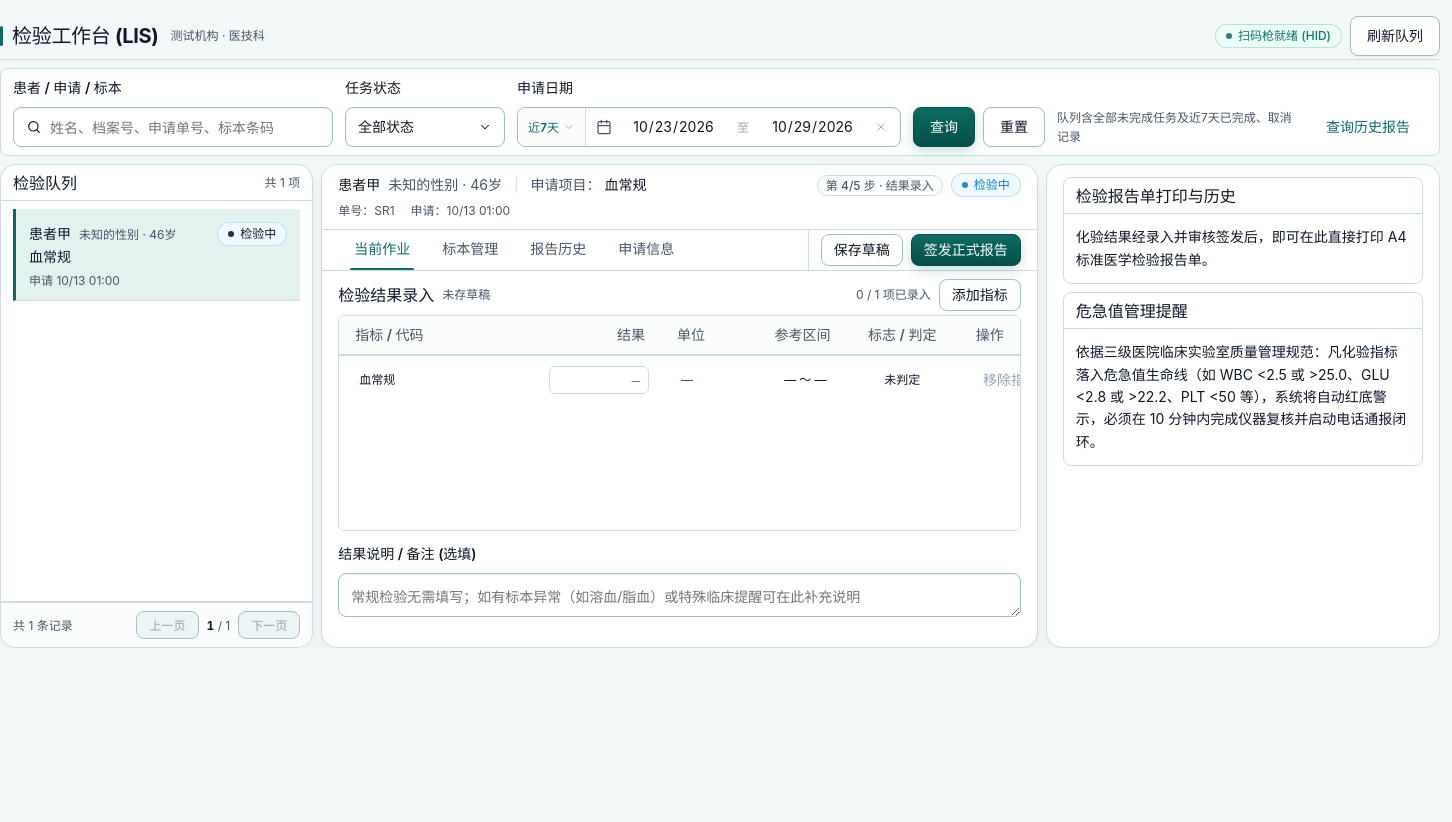
it: simple diagnostic business workbench › queries all pages with status and inclusive operator dates
Expected: the field named "指标1结果" is shown, [549,366,649,394]
Click the dropdown named "任务状态".
click(425, 127)  # box [345,107,505,147]
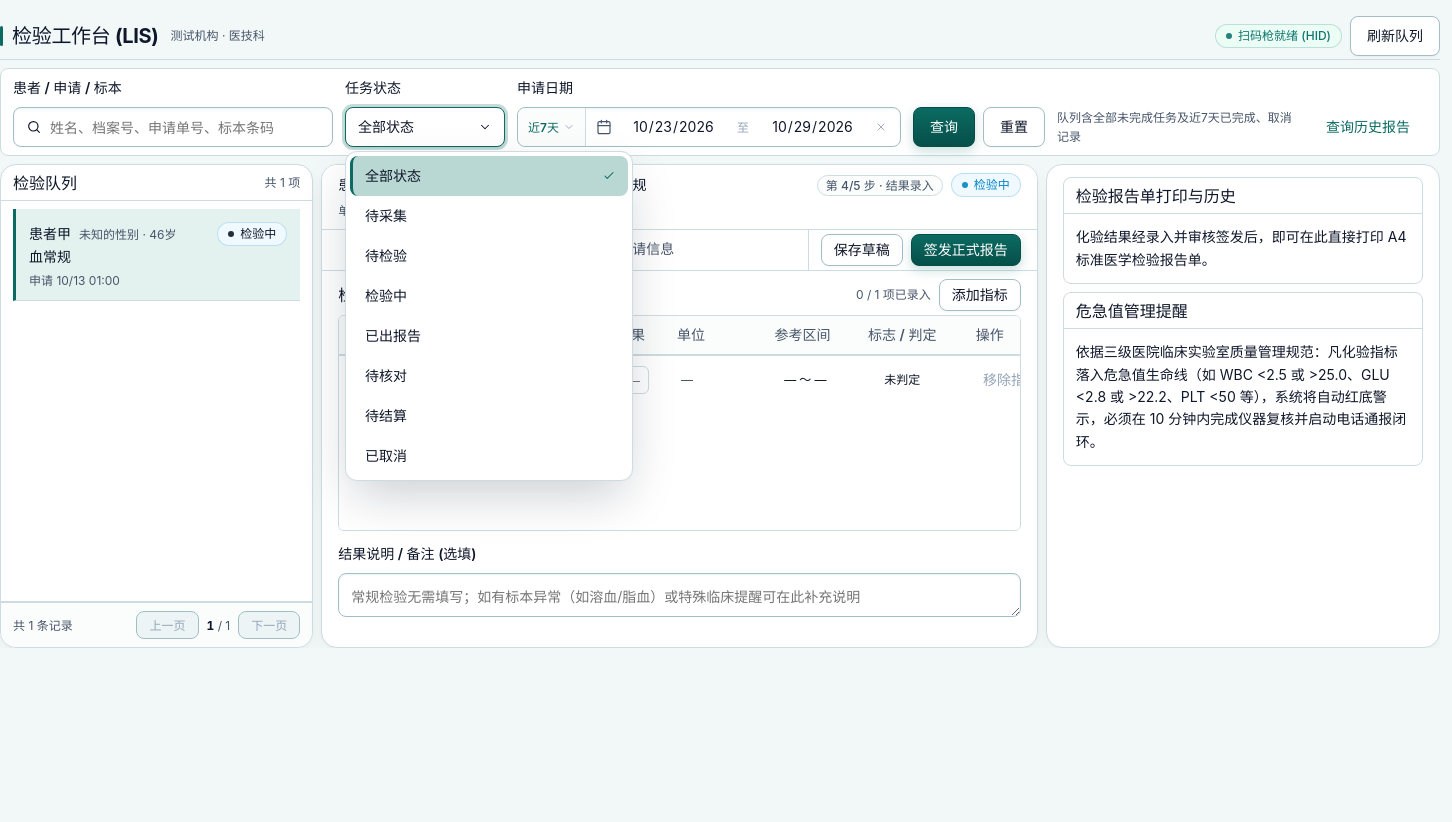
Click the option "检验中".
click(386, 296)  # box [350,276,628,316]
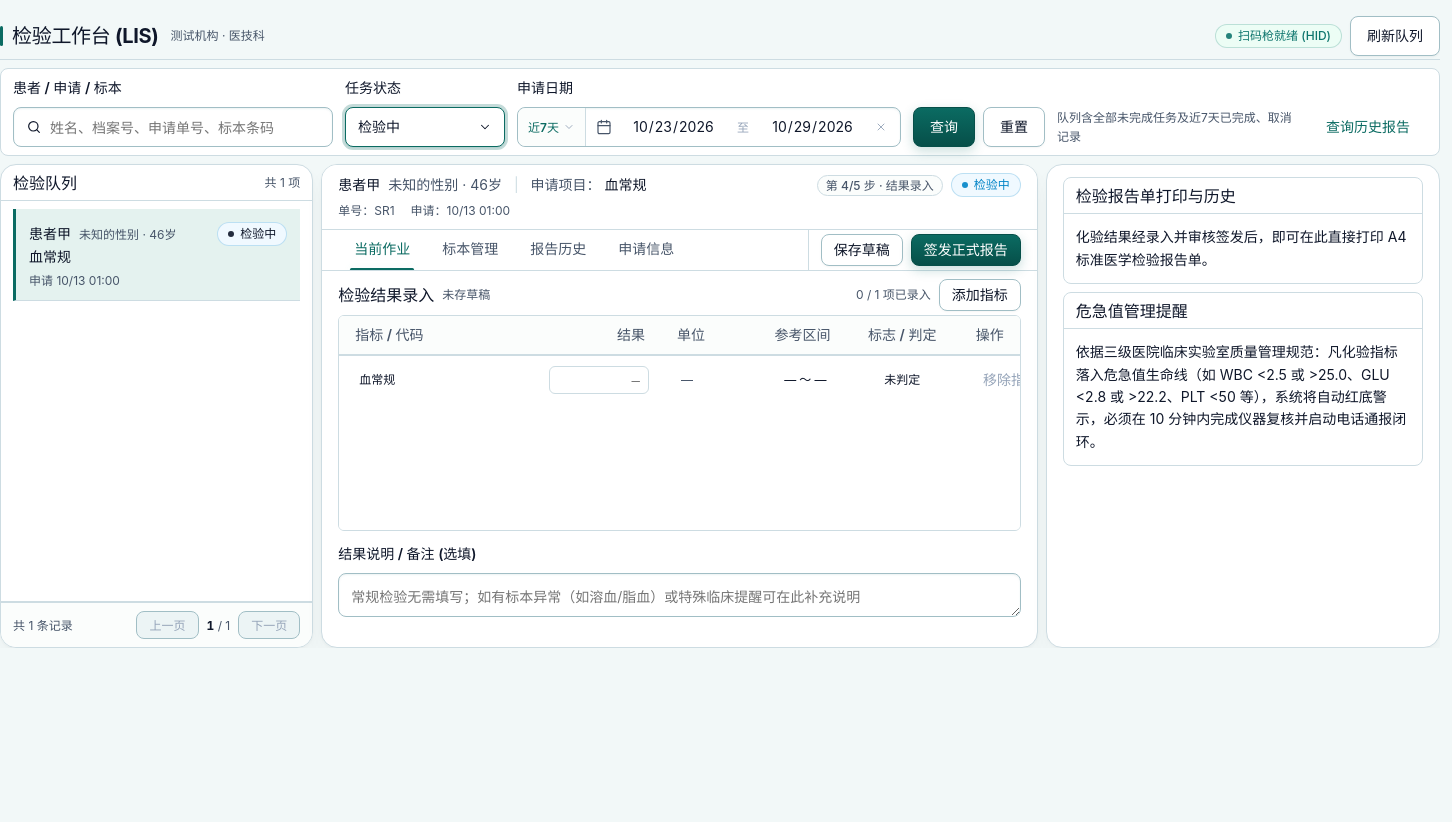
Type "2026-10-01" into the date field named "申请开始日期".
click(673, 127); type("2026-10-01")  # box [618,108,729,146]
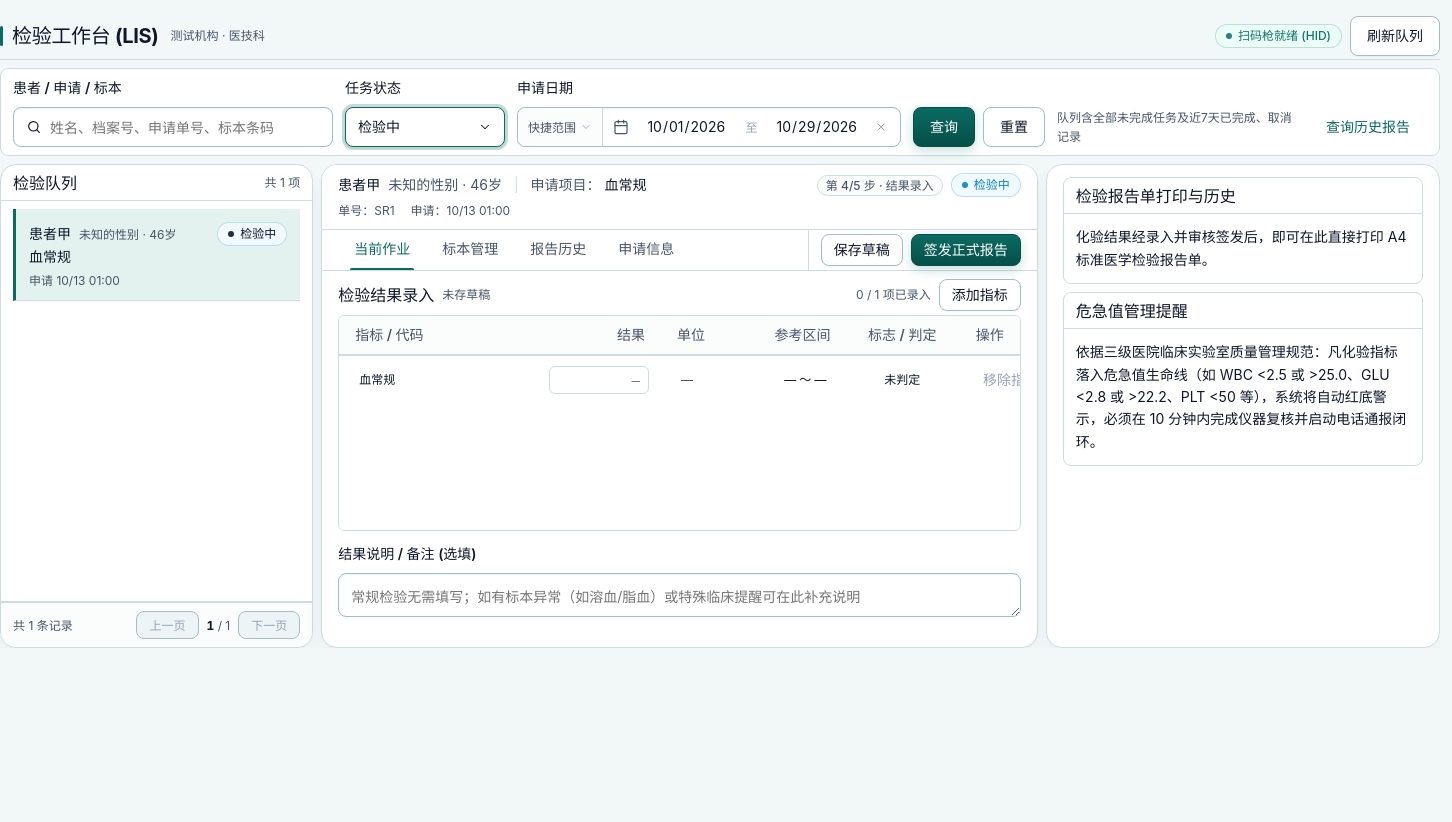
Type "2026-10-13" into the date field named "申请结束日期".
click(817, 127); type("2026-10-13")  # box [766,108,868,146]
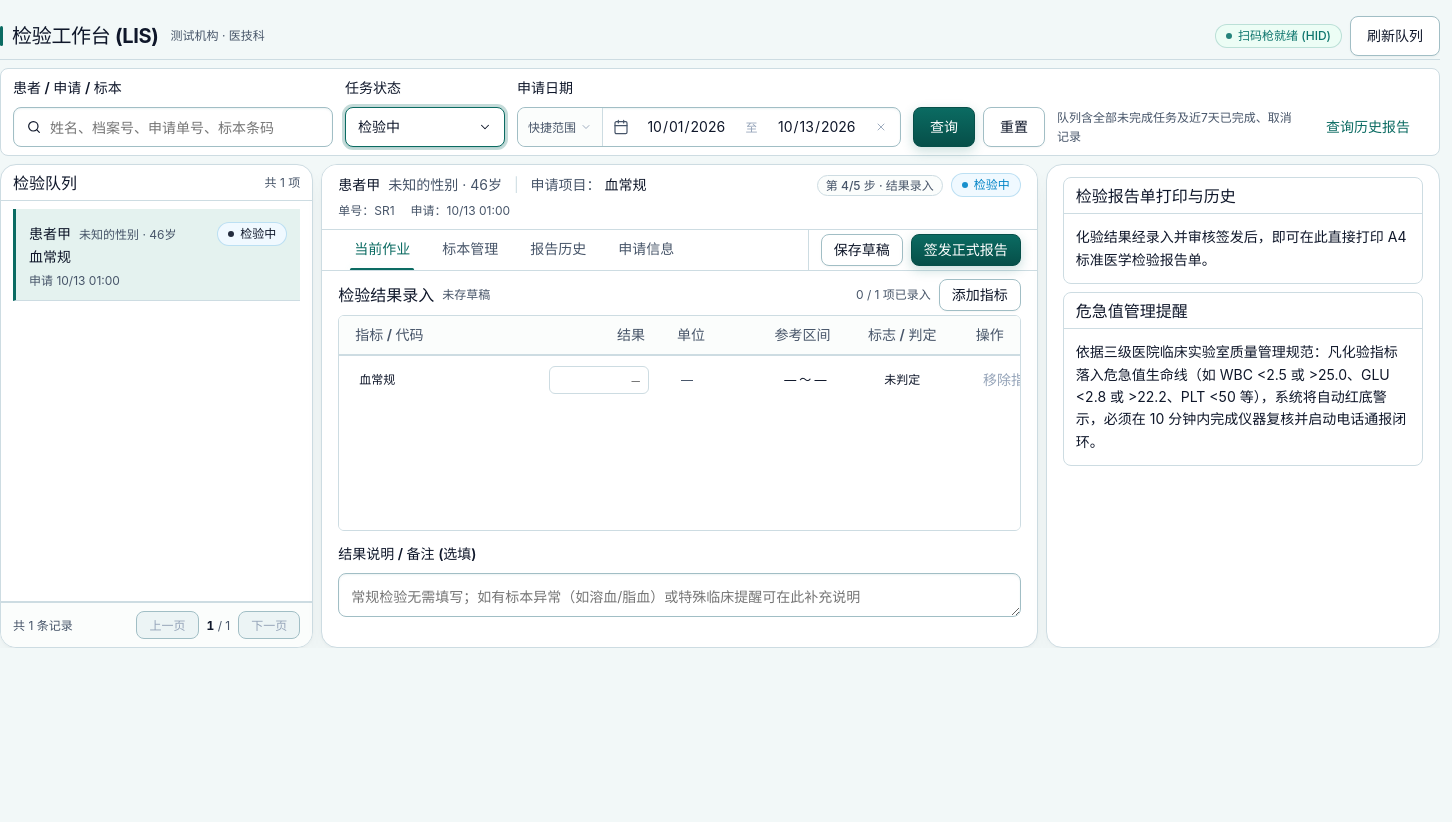
Click the button "查询".
click(944, 127)  # box [913,107,975,147]
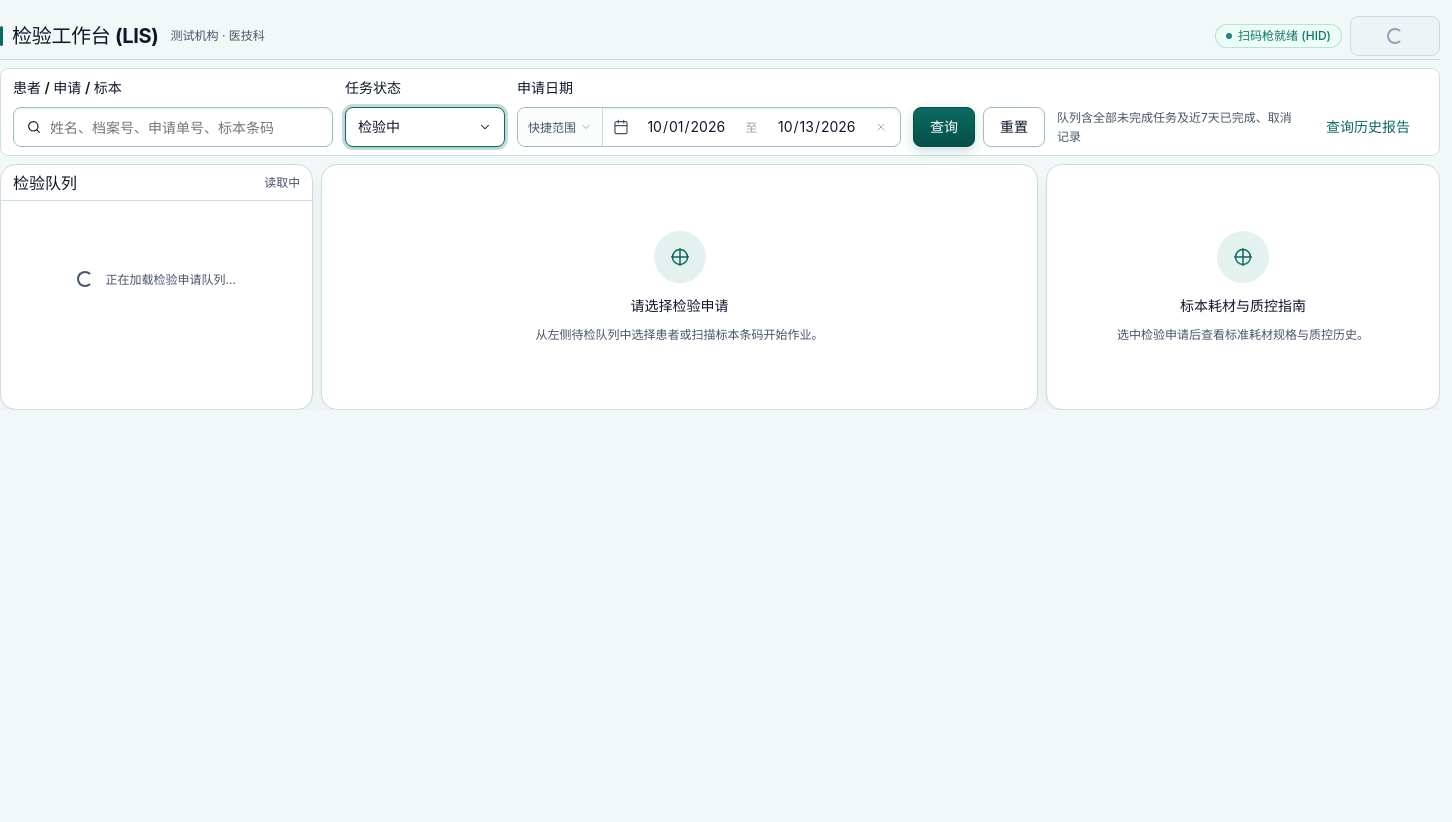
Click the button "重置".
click(1014, 127)  # box [983,107,1045,147]
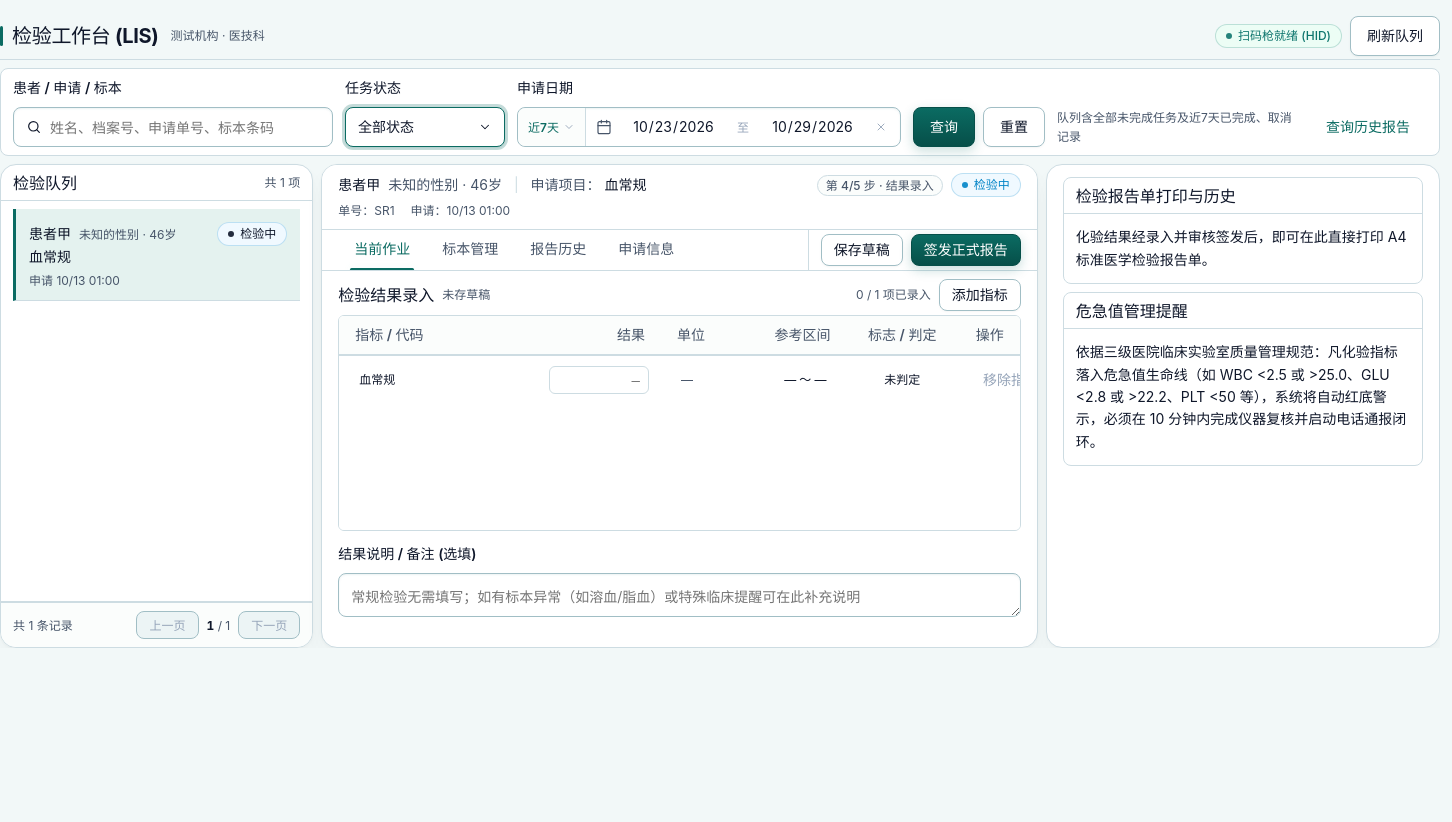
Expected: the dropdown named "任务状态" reads "全部状态", [345,107,505,147]
